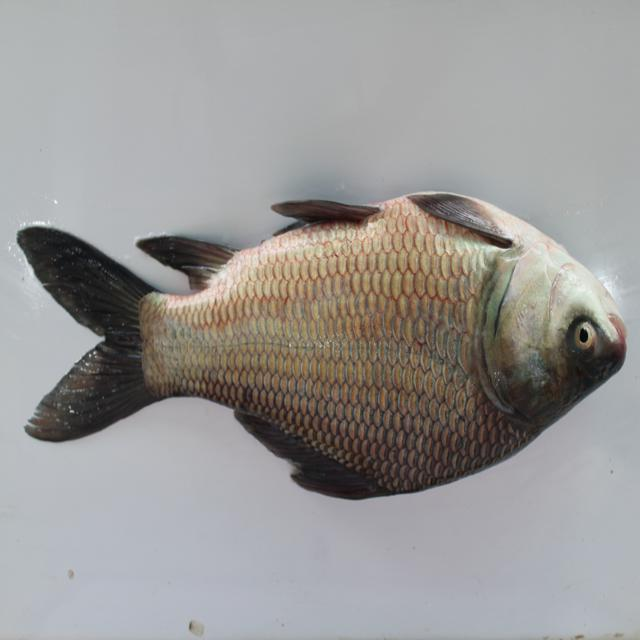Catla: (5, 189, 631, 525)
